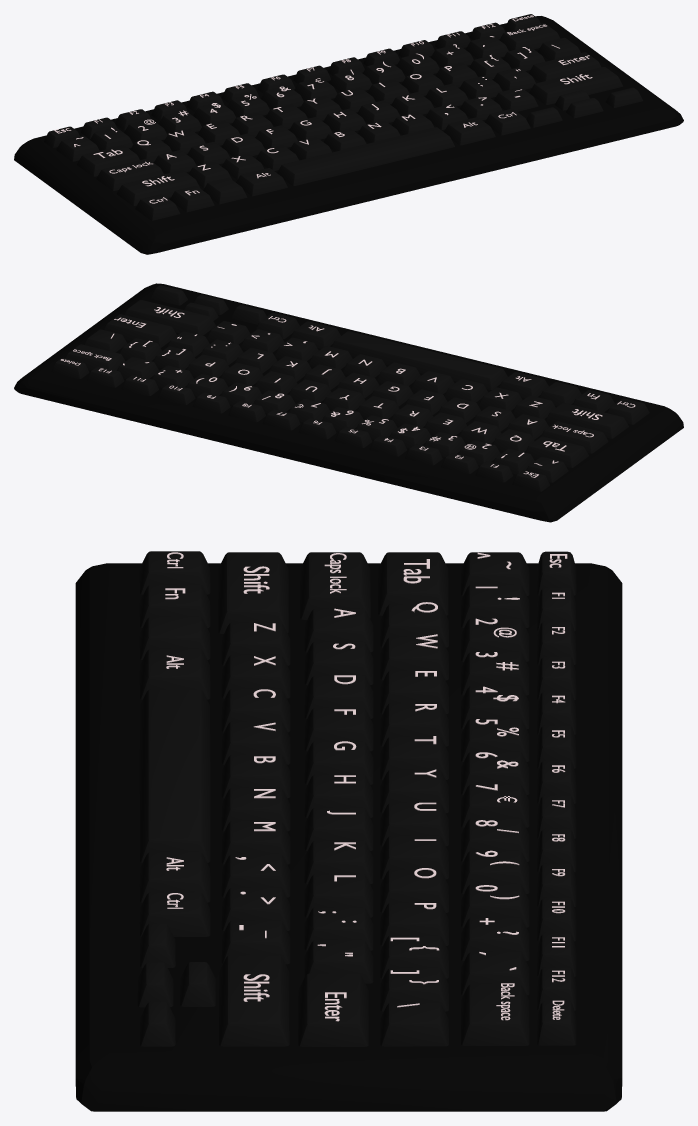
Rendered from keyboard.fbx.
3 views of the same model, one above another, from view 1: azimuth 30°, elevation 25°; view 2: azimuth 150°, elevation 25°; view 3: azimuth 270°, elevation 25° (orthographic). The views are drawn at different scales.
Parts seen in each view (by area): view 1: Cube.014, Plane, A; view 2: Cube.014, Plane, A; view 3: Cube.014, Plane, A.
Boxes of the visible parts, x1,y1,x2,y2 form: Cube.014: (44,14,643,220); Plane: (14,16,683,254); A: (54,15,592,203); Cube.014: (51,285,649,491); Plane: (14,283,683,522); A: (60,307,635,477); Cube.014: (137,551,576,1046); Plane: (75,563,622,1111); A: (165,552,567,1021).
Bounding box in the file's own units: 489 × 26.92 × 213.
